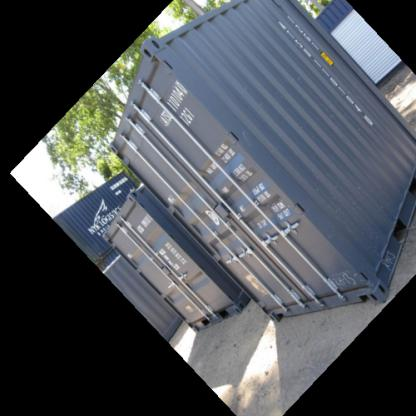Damage: (324, 271, 360, 292), (234, 122, 255, 152), (378, 248, 396, 275)
